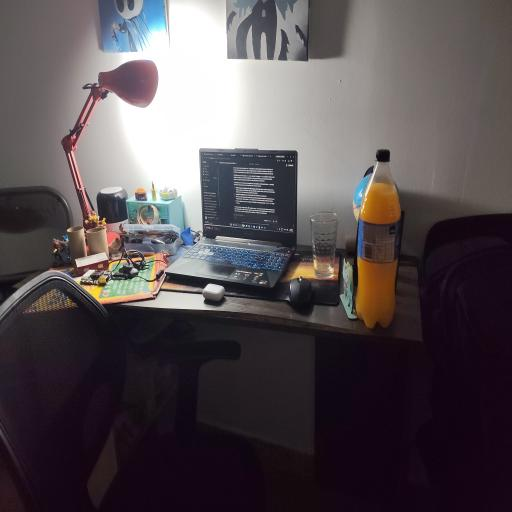Jugo del valle: (356, 150, 400, 328)
